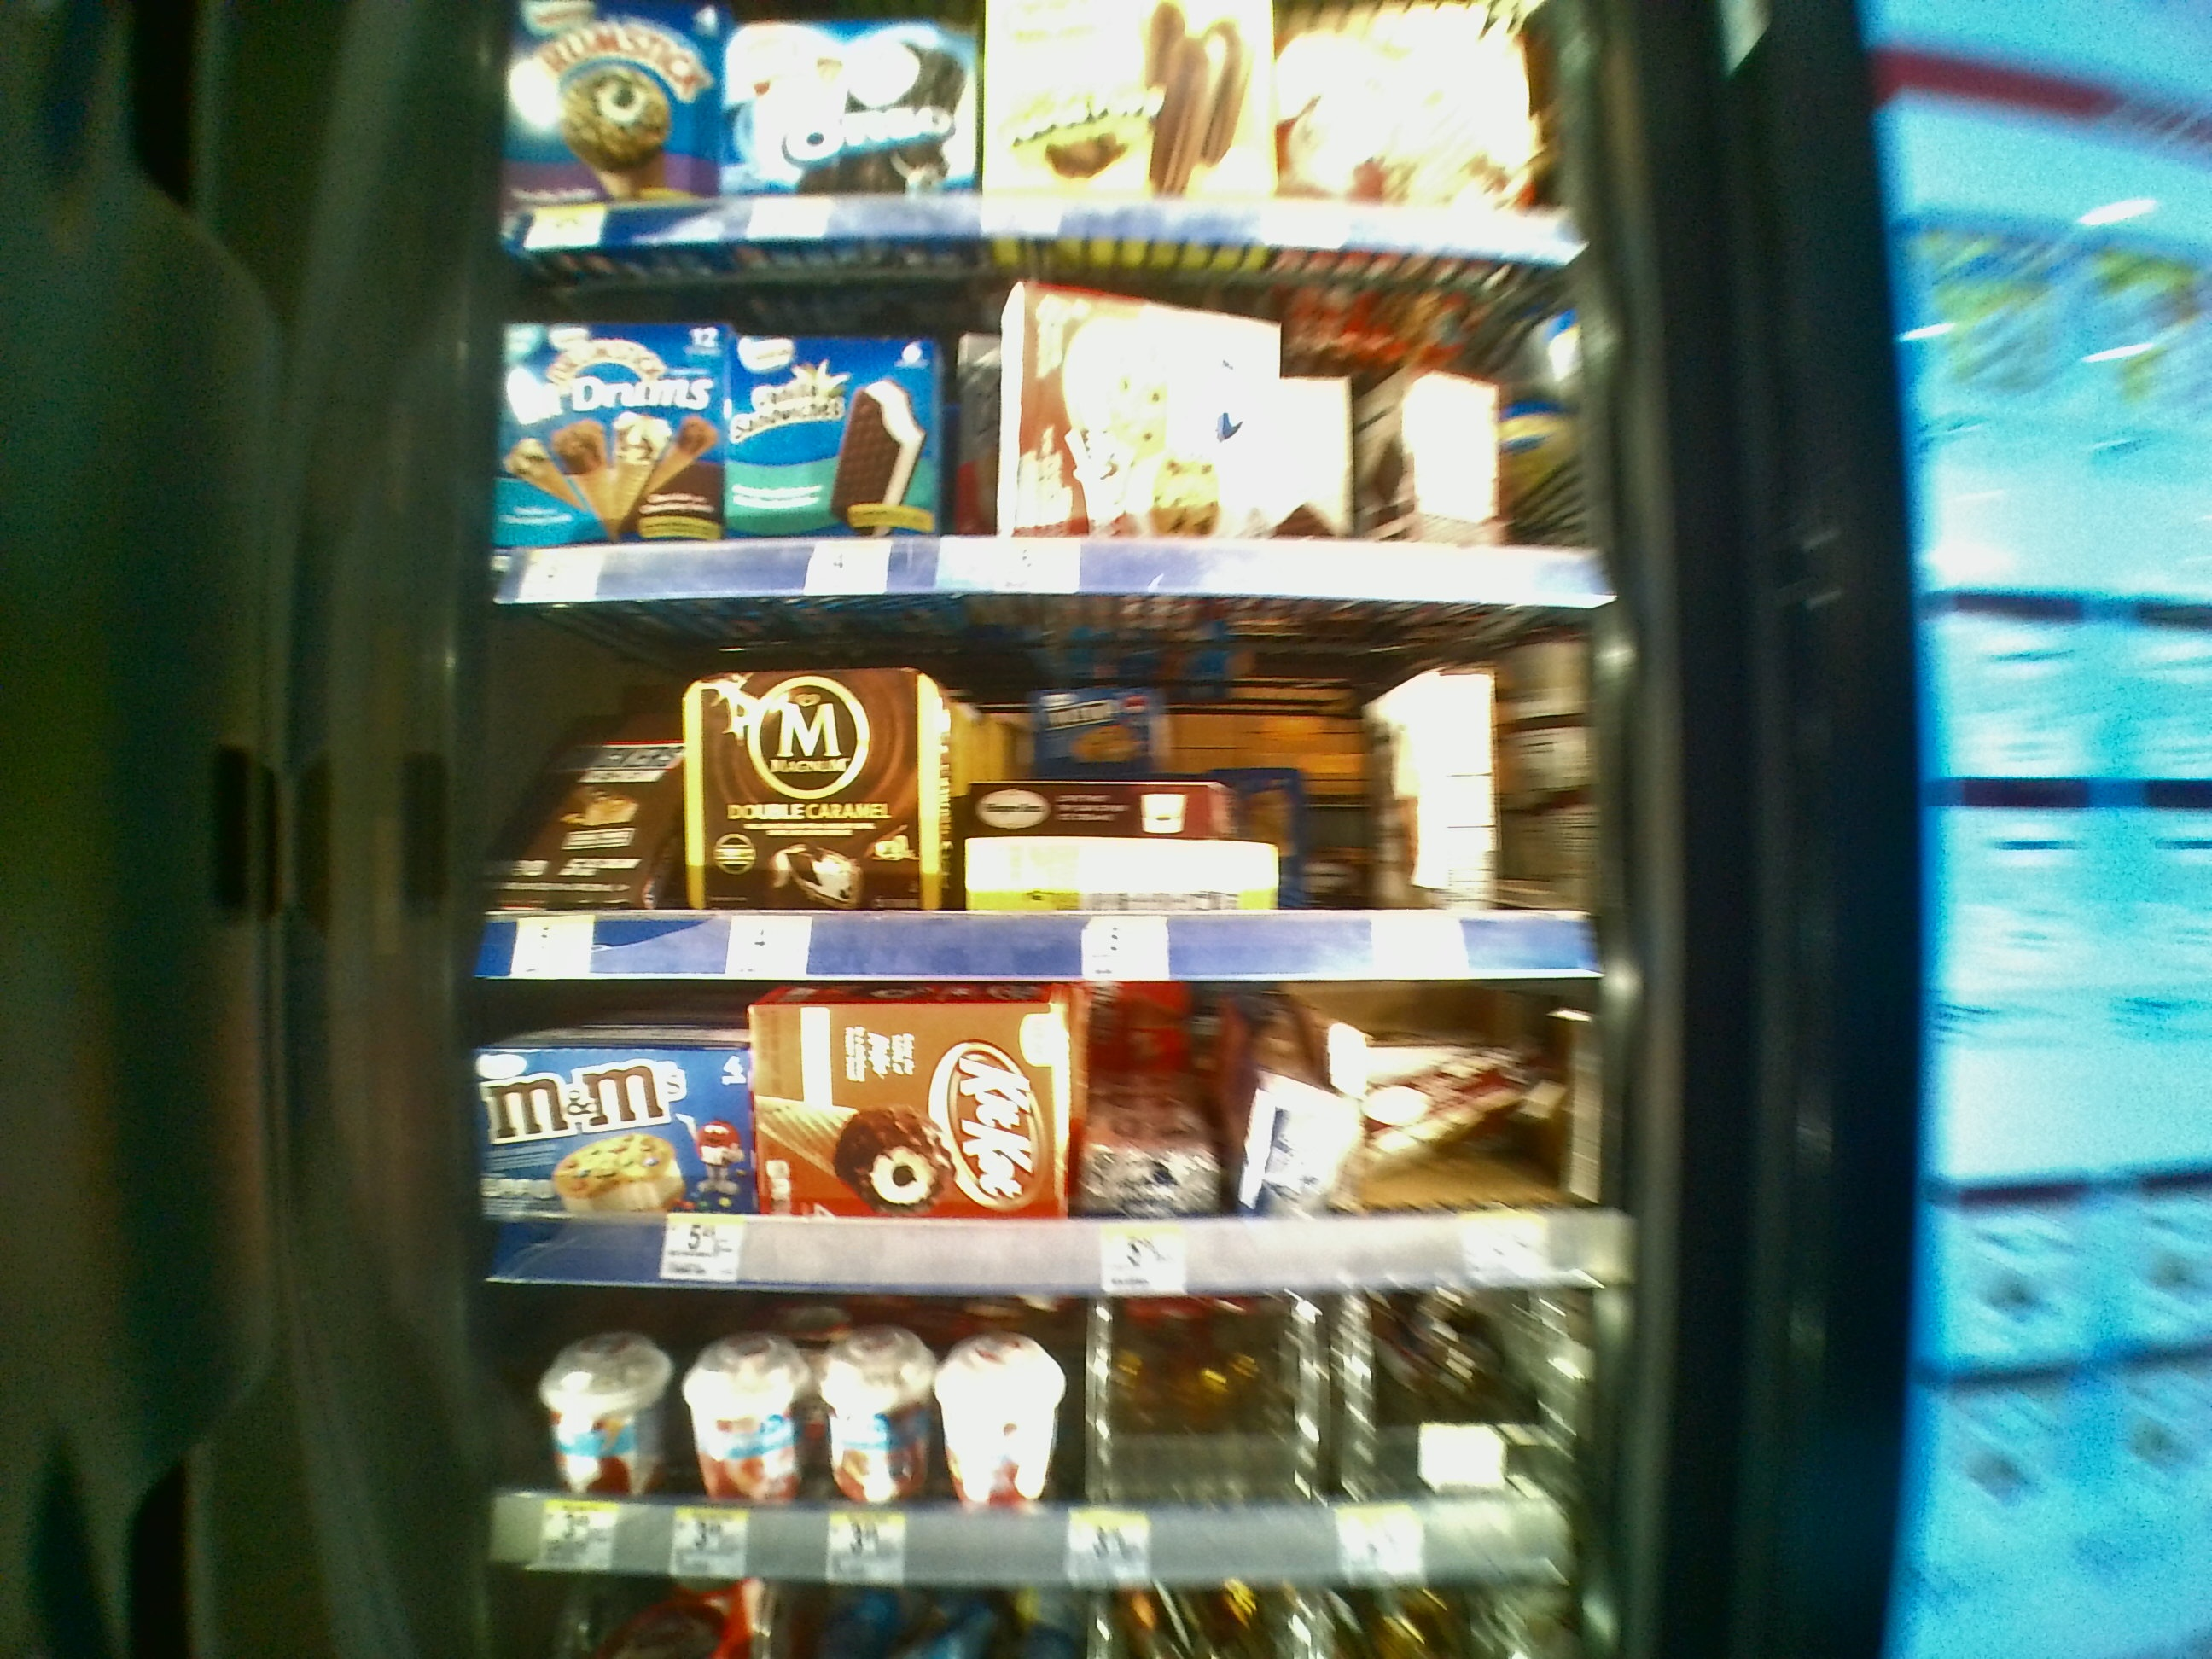shelf: (479, 237, 1634, 608), (479, 627, 1616, 988), (467, 1000, 1629, 1286), (479, 1298, 1623, 1579)
